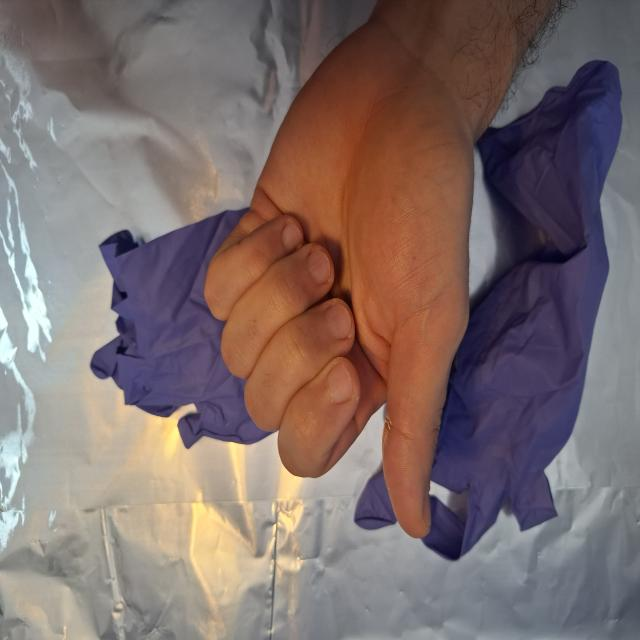glove_off: (201, 7, 479, 542)
